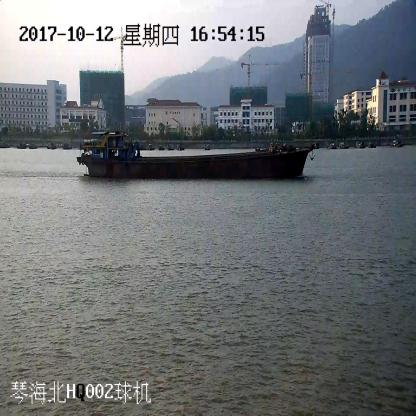Bulk Carrier: (78, 131, 314, 181)
